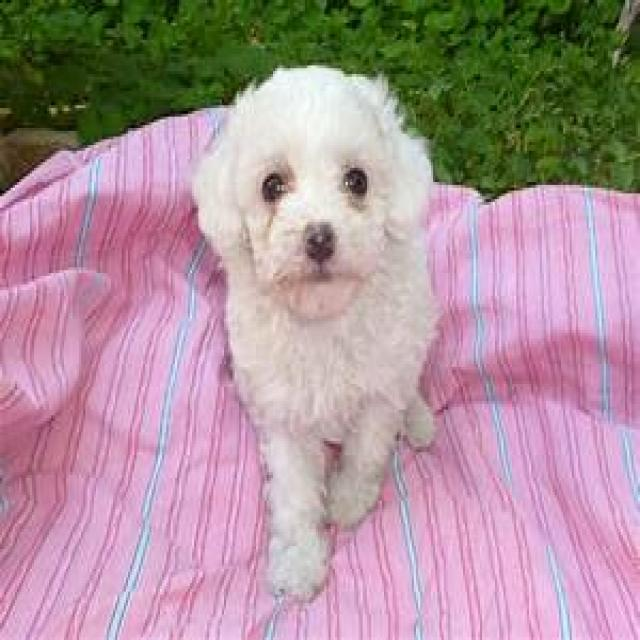dog: (192, 67, 438, 598)
